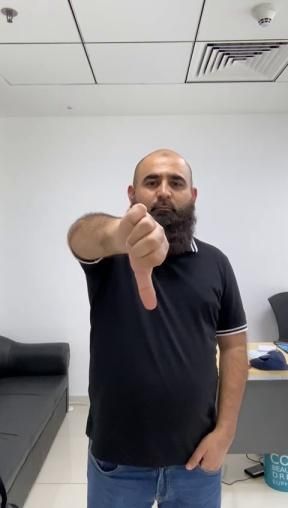thumbs-down: (115, 204, 172, 320)
